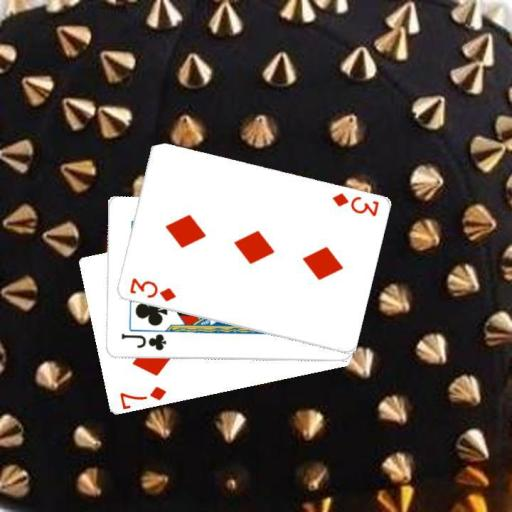3D: (126, 275, 178, 304), (329, 190, 380, 218)
7D: (116, 383, 168, 409)
JC: (117, 331, 167, 353)
